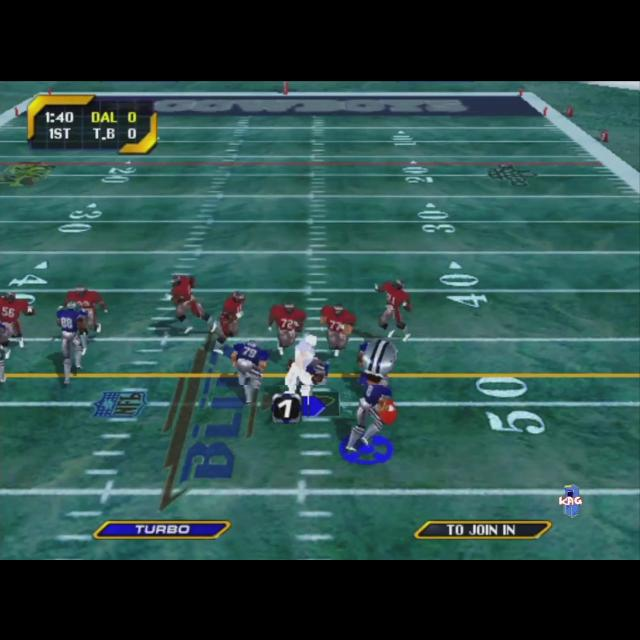player: (346, 340, 396, 450), (62, 284, 110, 352), (161, 272, 213, 334), (56, 301, 88, 385), (230, 339, 270, 405), (374, 279, 412, 341), (211, 291, 247, 353), (284, 332, 318, 396), (268, 301, 308, 354), (0, 292, 36, 348), (320, 304, 356, 356)
